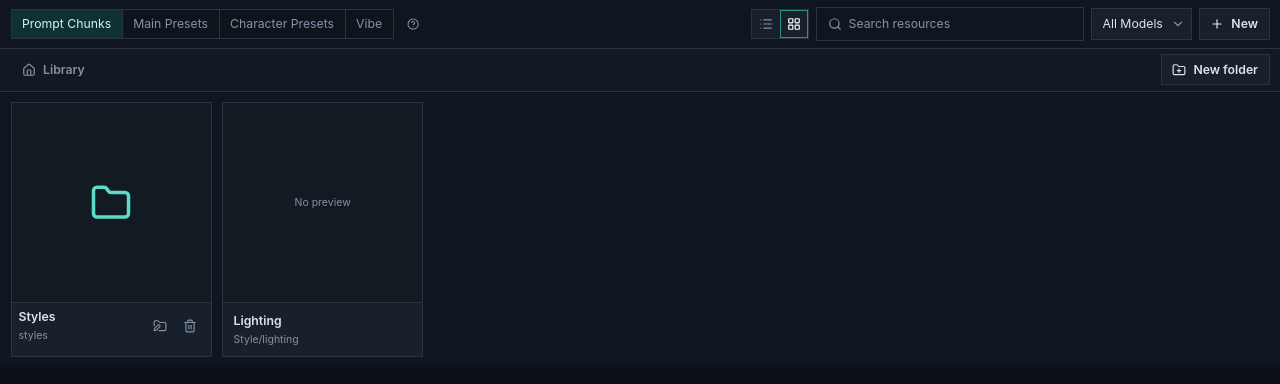
Test case: Resources dialogs › keeps main and character preset libraries separate
Click the tab "Main Presets" at (171, 24), box left=123, top=10, right=220, bottom=38
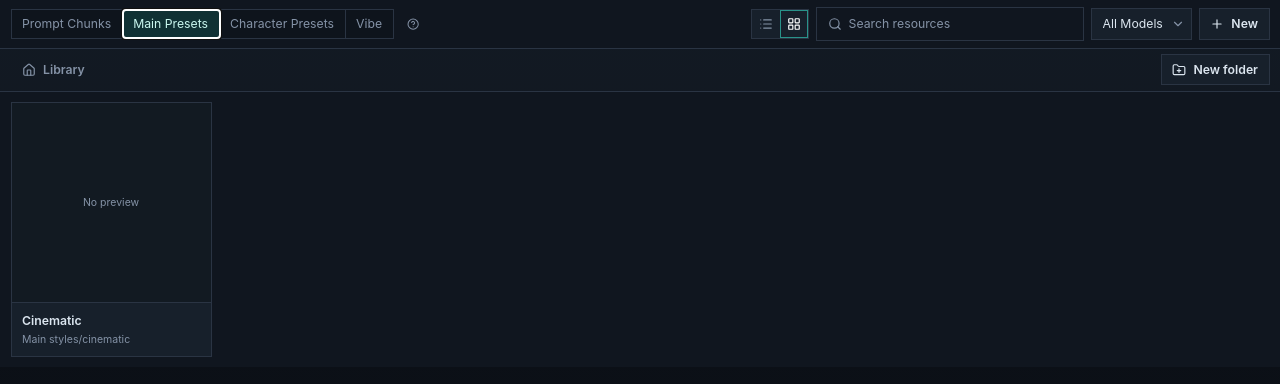
Check: the button "Hero" is not shown
Check: the button "No preview Cinematic Main styles/cinematic" is shown, box left=10, top=102, right=212, bottom=357
Click the tab "Character Presets" at (283, 24), box left=220, top=10, right=346, bottom=38
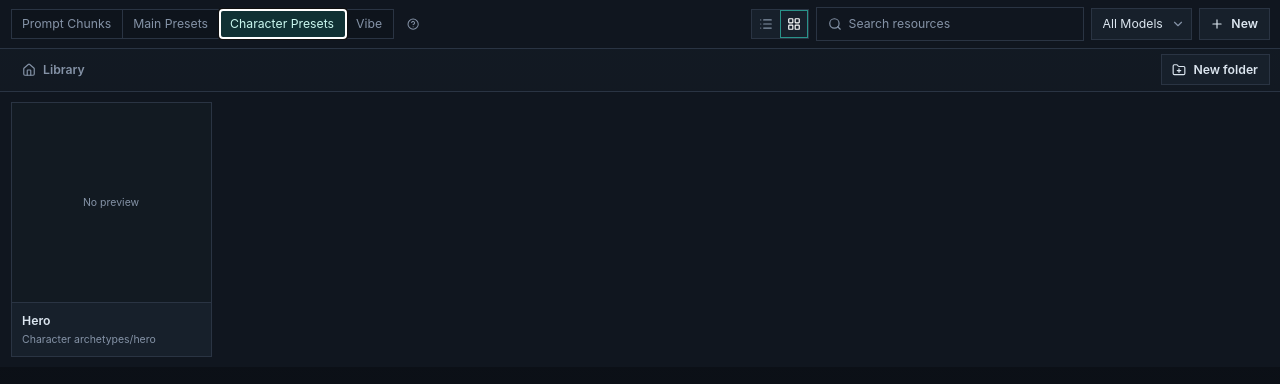
Check: the button "No preview Hero Character archetypes/hero" is shown, box left=10, top=102, right=212, bottom=357
Check: the button "Cinematic" is gone
